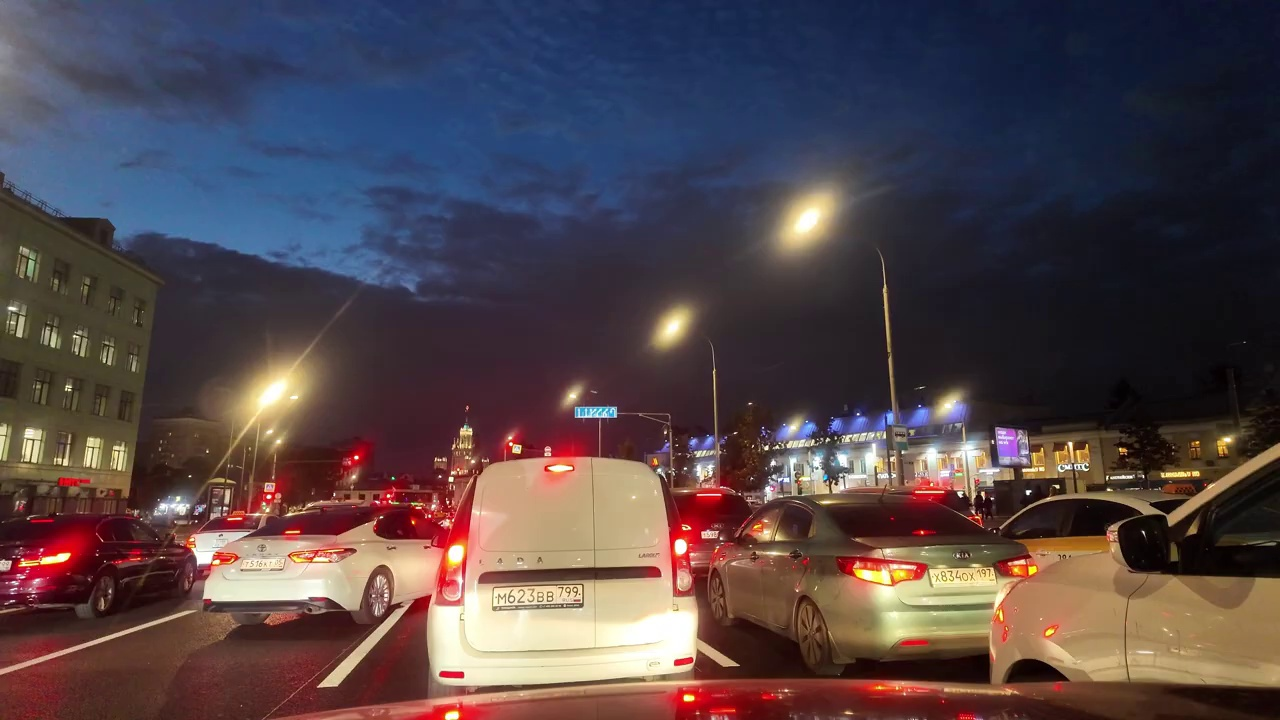acesa: (783, 192, 835, 248), (649, 303, 694, 351), (248, 372, 295, 416)
